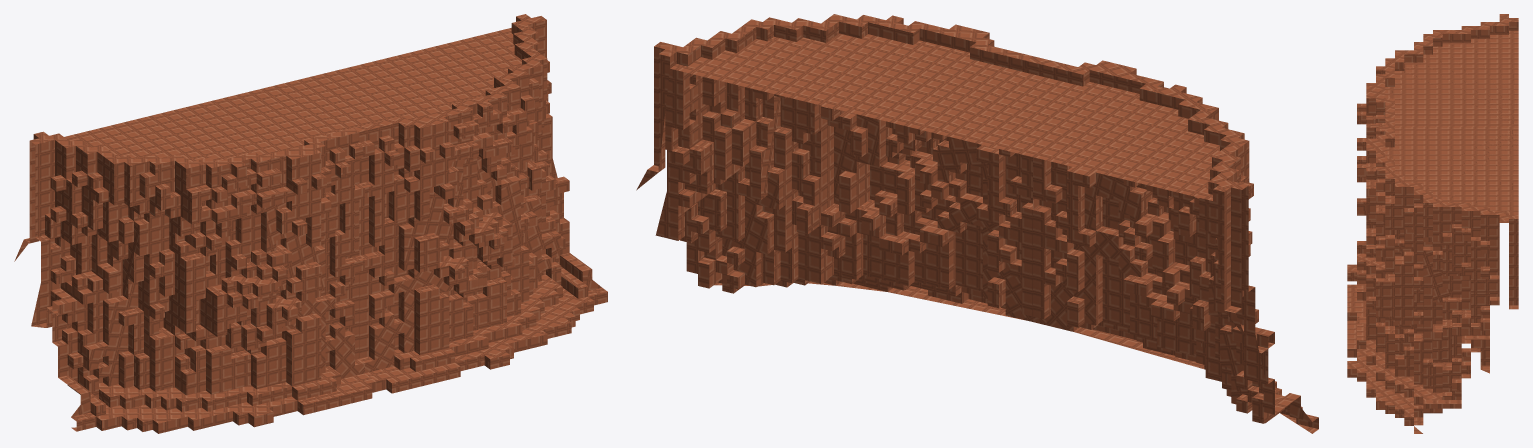
Rendered from ChocoCliff_old.FBX.
The picture shows the model from 3 angles, left to right: view 1: azimuth 30°, elevation 25°; view 2: azimuth 150°, elevation 25°; view 3: azimuth 270°, elevation 25°; orthographic projection. The views are drawn at different scales.
Parts seen in each view (by area): view 1: Object001; view 2: Object001; view 3: Object001.
Boxes of the visible parts, x1,y1,x2,y2 form: Object001: (14,14,607,433); Object001: (636,14,1318,433); Object001: (1347,14,1518,433).
Bounding box in the file's own units: 54 × 18 × 24.
